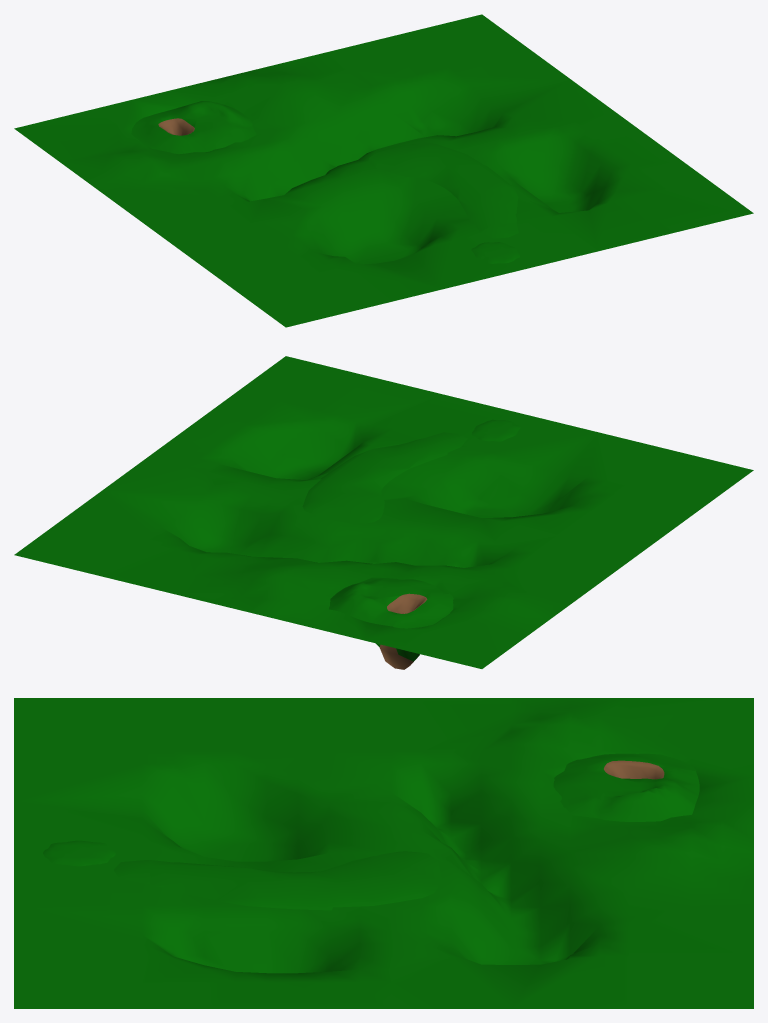
File: newtesthole003.fbx
The picture shows the model from 3 angles, top to bottom: view 1: azimuth 30°, elevation 25°; view 2: azimuth 150°, elevation 25°; view 3: azimuth 270°, elevation 25°; orthographic projection. The views are drawn at different scales.
Parts seen in each view (by area): view 1: nurbsToPoly1, nurbsToPoly3, nurbsToPoly2, nurbsToPoly4; view 2: nurbsToPoly1, nurbsToPoly3, nurbsToPoly2, nurbsToPoly4; view 3: nurbsToPoly1, nurbsToPoly3, nurbsToPoly2, nurbsToPoly4.
Boxes of the visible parts, <box> form: nurbsToPoly1: <box>14,14,753,327</box>; nurbsToPoly3: <box>369,142,518,238</box>; nurbsToPoly2: <box>131,101,256,153</box>; nurbsToPoly4: <box>471,242,519,263</box>; nurbsToPoly1: <box>14,356,753,669</box>; nurbsToPoly3: <box>302,432,467,523</box>; nurbsToPoly2: <box>329,577,453,628</box>; nurbsToPoly4: <box>472,419,520,441</box>; nurbsToPoly1: <box>14,698,753,1008</box>; nurbsToPoly3: <box>114,851,442,910</box>; nurbsToPoly2: <box>553,753,699,821</box>; nurbsToPoly4: <box>43,840,115,866</box>.
Size of the model in its own units: 181 by 27.17 by 182.
